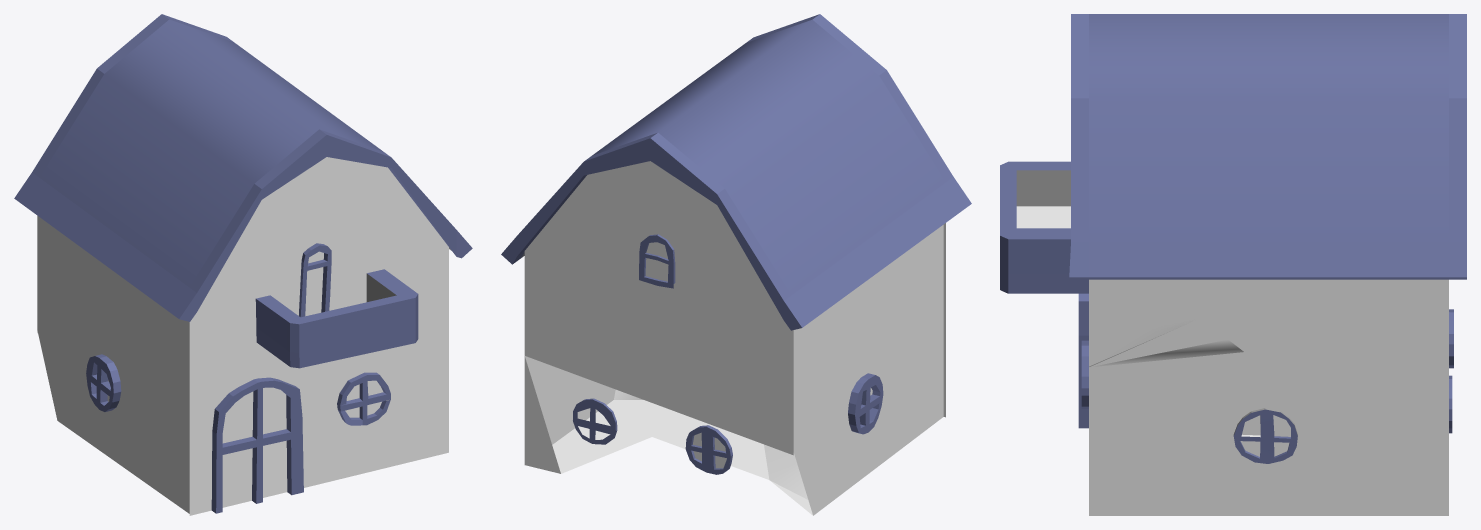
Rendered from House 2 Final Shatter.fbx.
The picture shows the model from 3 angles, left to right: view 1: azimuth 30°, elevation 25°; view 2: azimuth 150°, elevation 25°; view 3: azimuth 270°, elevation 25°; orthographic projection. The views are drawn at different scales.
Parts seen in each view (by area): view 1: polySurface464, polySurface461, polySurface463; view 2: polySurface464, polySurface461; view 3: polySurface464, polySurface463.
Part boxes in pixels (x1,y1,x2,y2): polySurface464: (14,14,472,515); polySurface461: (68,428,182,508); polySurface463: (420,329,448,459); polySurface464: (501,14,971,515); polySurface461: (764,348,934,507); polySurface464: (1000,14,1466,515); polySurface463: (1089,319,1249,515).
Size of the model in its own units: 226 by 261 by 259.
